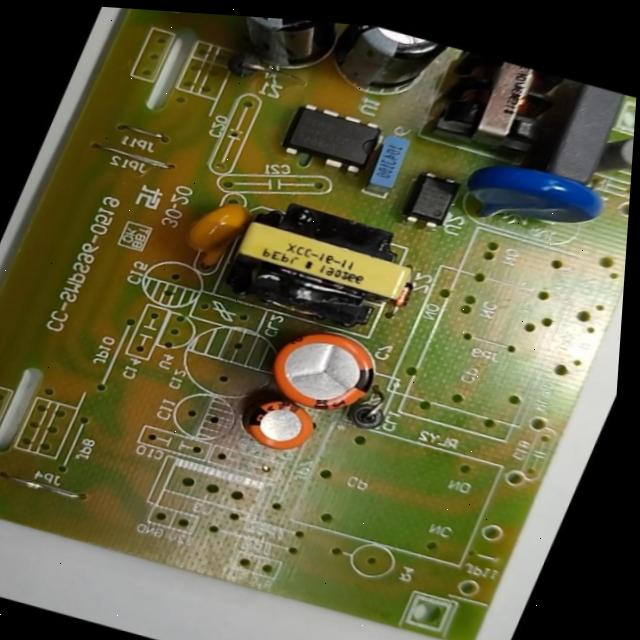Cap1: (253, 313, 398, 426)
Cap2: (230, 384, 332, 463)
Cap3: (311, 21, 463, 115)
Cap4: (198, 13, 347, 84)
MOSFET: (274, 94, 390, 178)
Mov: (445, 145, 617, 260)
Resistor: (581, 120, 635, 191)
Transformer: (207, 186, 437, 346), (412, 44, 579, 169)
